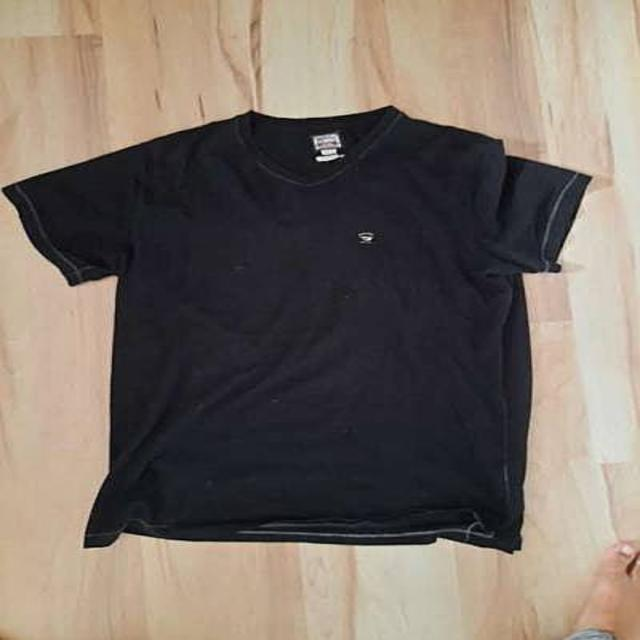T_SHIRT: (9, 93, 601, 559)
